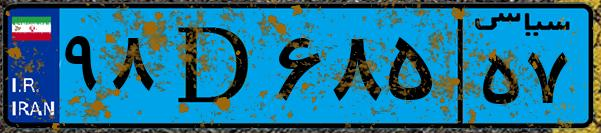5: (385, 28, 445, 110), (475, 38, 525, 113)
6: (270, 28, 330, 110)
7: (525, 38, 570, 115)
8: (330, 28, 385, 110), (110, 28, 158, 98)
9: (57, 26, 110, 100)
D: (158, 12, 270, 120)
